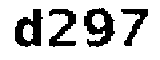2: (48, 8, 78, 52)
7: (119, 5, 152, 49)
9: (82, 6, 116, 51)
d: (10, 3, 44, 51)
